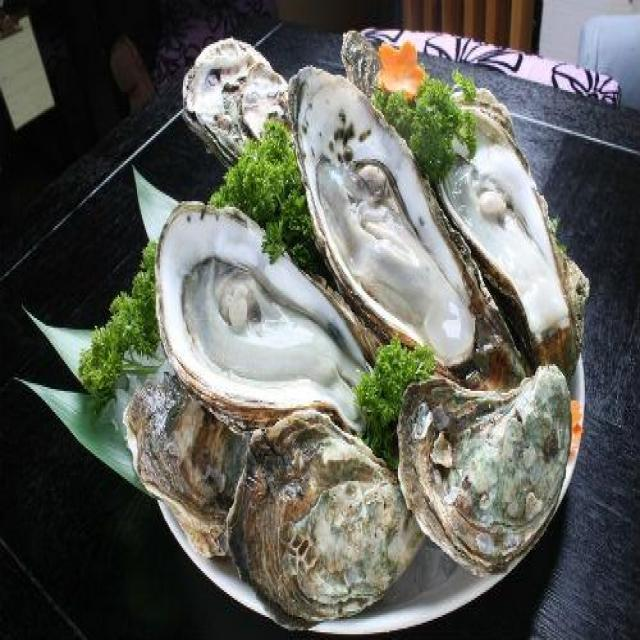Oyster- Indeterminate: (231, 412, 426, 629), (396, 366, 582, 578), (123, 366, 253, 556), (182, 38, 289, 165), (331, 27, 415, 99)
Oyster-Open: (283, 68, 487, 374), (151, 205, 374, 437), (439, 98, 581, 398)
